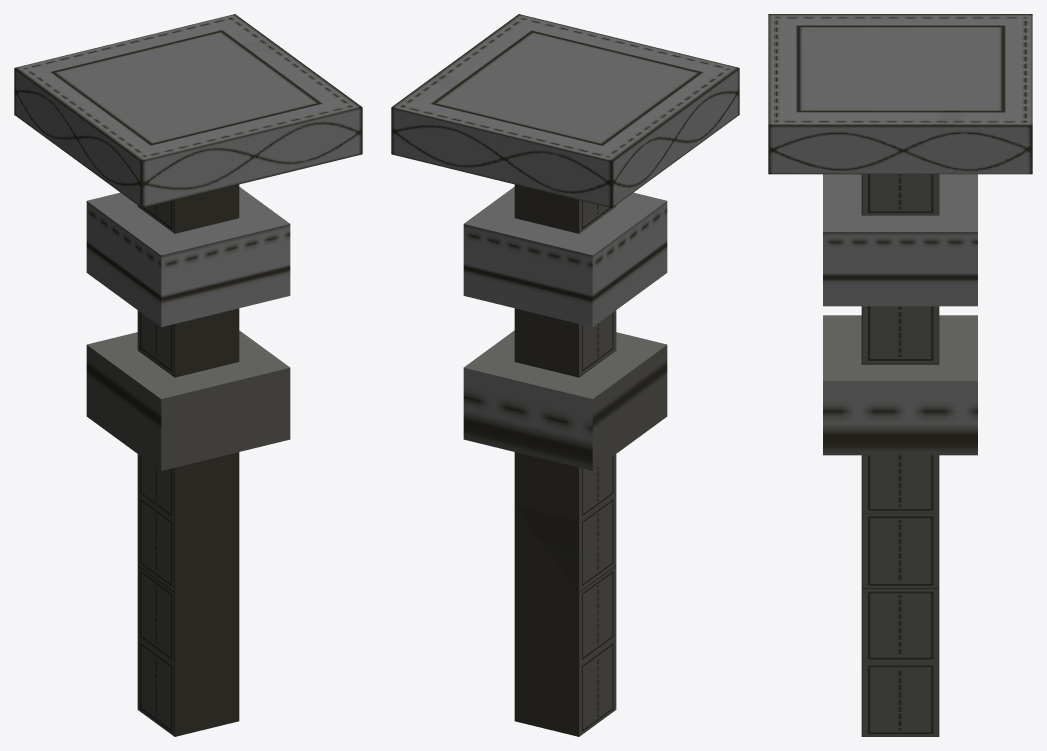
The model's file is Platform_0.fbx.
The picture shows the model from 3 angles, left to right: view 1: azimuth 30°, elevation 25°; view 2: azimuth 150°, elevation 25°; view 3: azimuth 270°, elevation 25°; orthographic projection. The views are drawn at different scales.
Parts seen in each view (by area): view 1: Model_0; view 2: Model_0; view 3: Model_0.
Part boxes in pixels (bbox=[...]): Model_0: bbox=[14, 14, 362, 736]; Model_0: bbox=[391, 14, 739, 736]; Model_0: bbox=[768, 14, 1032, 736].
Bounding box in the file's own units: 416 × 1130 × 416.
